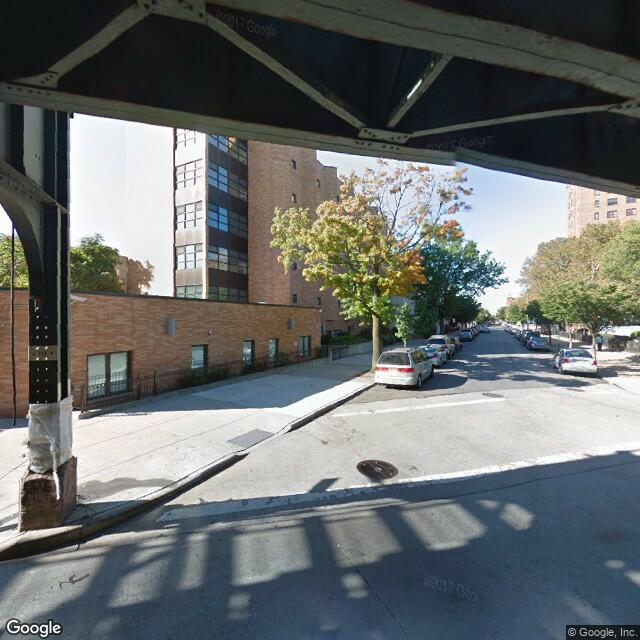litter: (15, 396, 83, 460)
